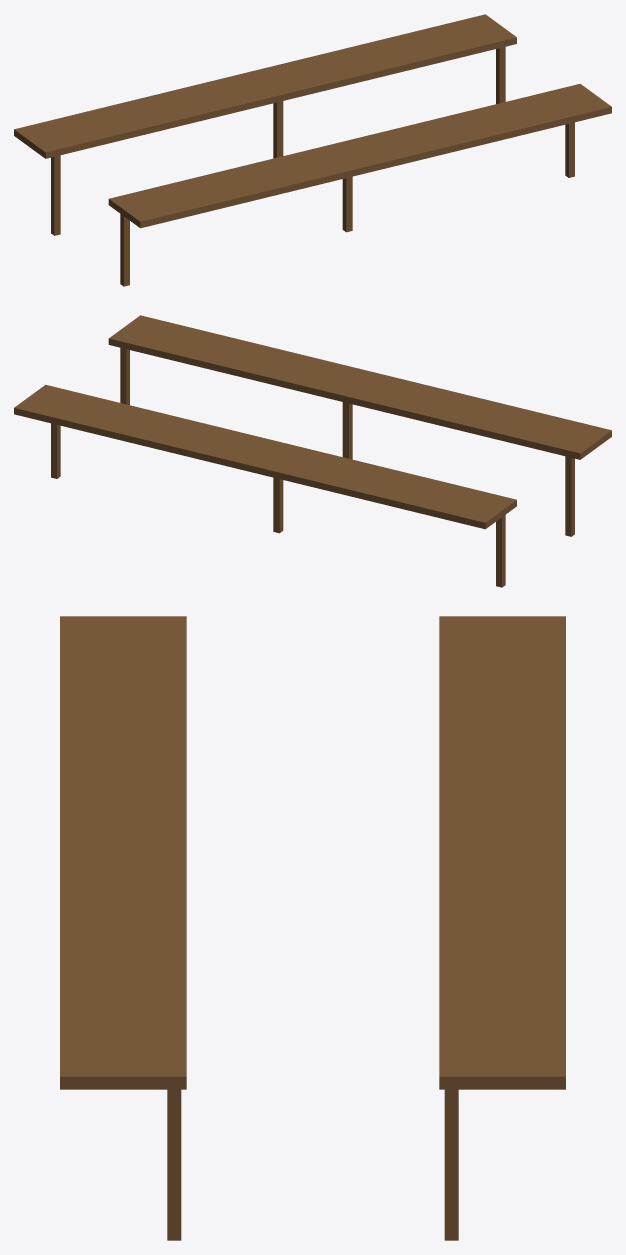
File: lavice_studentky.glb
3 renders of one model, top to bottom at view 1: azimuth 30°, elevation 25°; view 2: azimuth 150°, elevation 25°; view 3: azimuth 270°, elevation 25°, orthographic. The views are drawn at different scales.
Parts seen in each view (by area): view 1: lavice_studentky; view 2: lavice_studentky; view 3: lavice_studentky.
Boxes of the visible parts, x1,y1,x2,y2 form: lavice_studentky: [14, 14, 611, 286]; lavice_studentky: [14, 315, 611, 587]; lavice_studentky: [60, 616, 565, 1240].
Size of the model in its own units: 5.34 by 0.94 by 2.48.
Materials: 1 (1 with a texture image).
